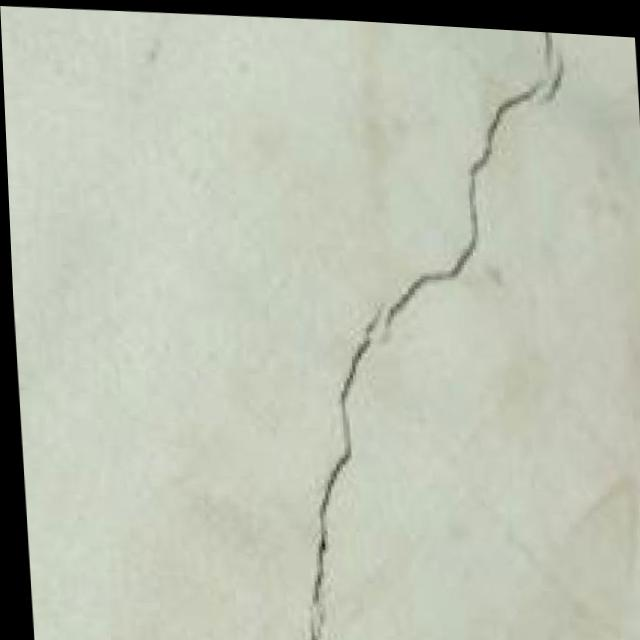Crack: (242, 11, 611, 640)
